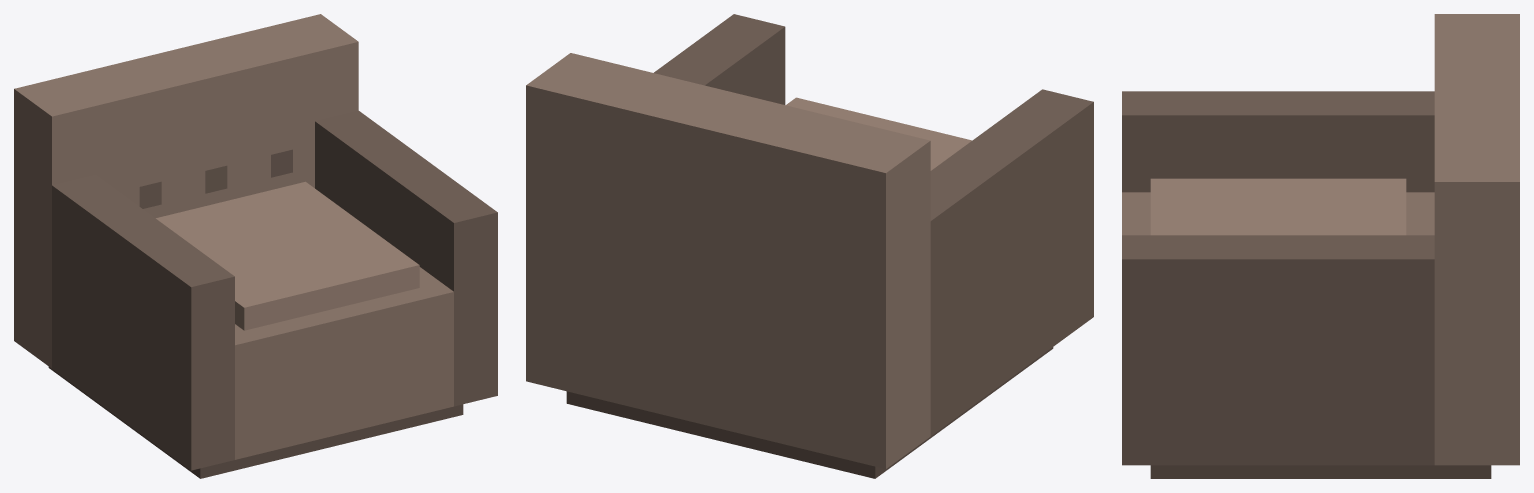
File: butaca_desgastada_01.glb
The picture shows the model from 3 angles, left to right: view 1: azimuth 30°, elevation 25°; view 2: azimuth 150°, elevation 25°; view 3: azimuth 270°, elevation 25°; orthographic projection. The views are drawn at different scales.
Parts seen in each view (by area): view 1: butaca_desgastada; view 2: butaca_desgastada; view 3: butaca_desgastada.
Boxes of the visible parts, x1,y1,x2,y2 form: butaca_desgastada: [14, 14, 497, 478]; butaca_desgastada: [526, 14, 1093, 478]; butaca_desgastada: [1122, 14, 1519, 478].
Bounding box in the file's own units: 1 × 0.8571 × 1.
